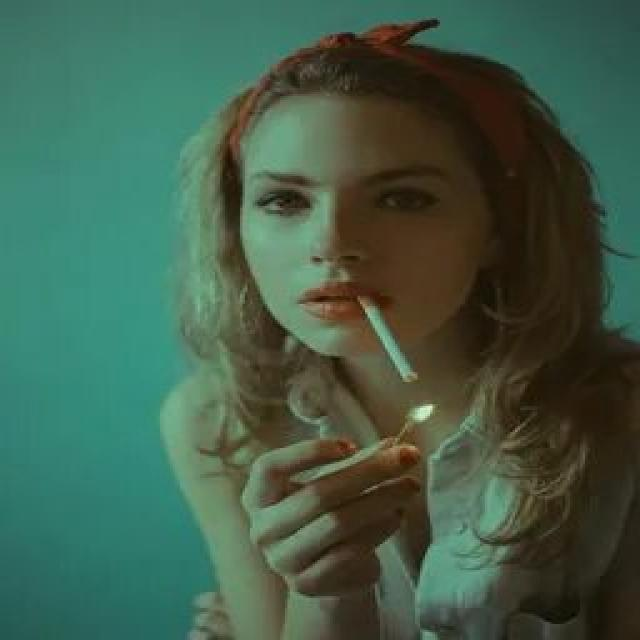cigarette: (353, 290, 425, 390)
